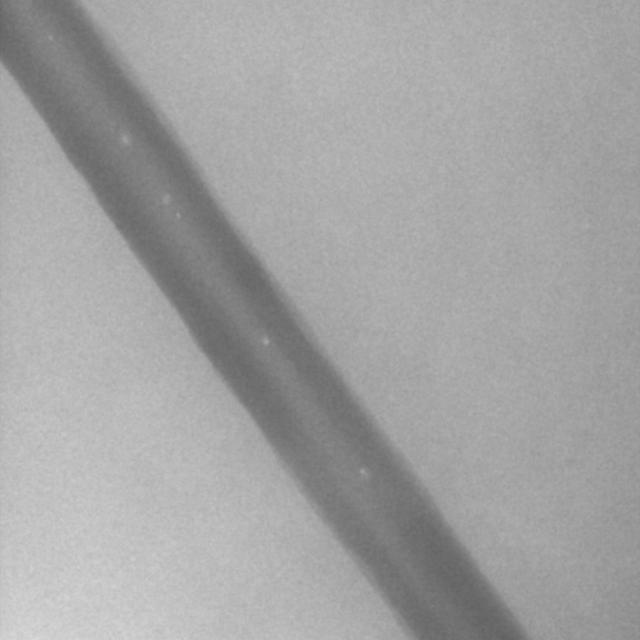air hole: (260, 333, 271, 349), (120, 132, 131, 147), (357, 466, 369, 479)
